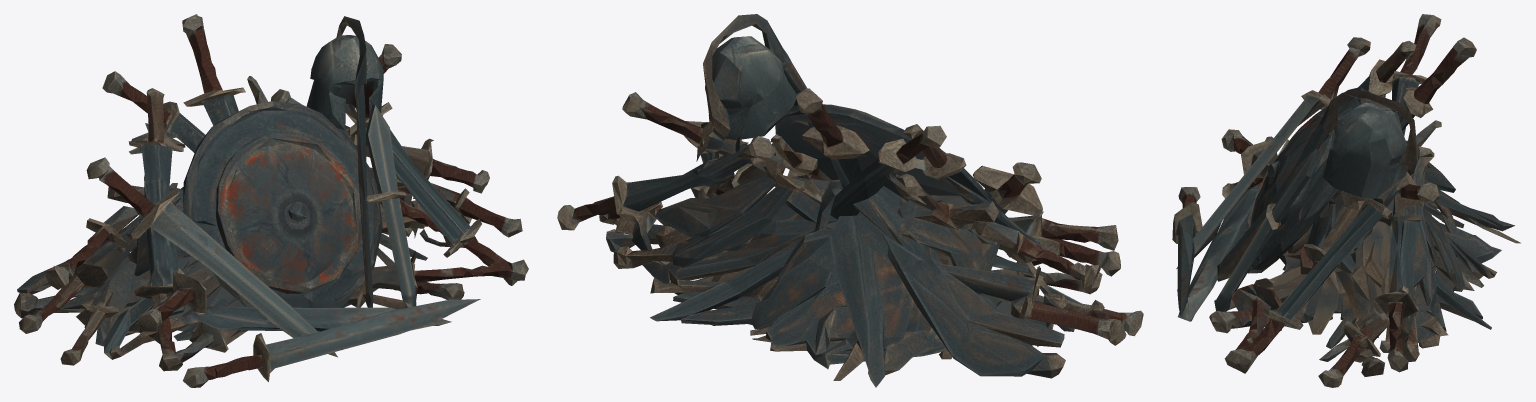
File: Meshy_AI_Decor_broken_weapons_01a0e9ed_texture.glb
The picture shows the model from 3 angles, left to right: view 1: azimuth 30°, elevation 25°; view 2: azimuth 150°, elevation 25°; view 3: azimuth 270°, elevation 25°; orthographic projection. The views are drawn at different scales.
Bounding box in the file's own units: 1.89 × 0.9076 × 1.18.
1 material, 1 textured.
